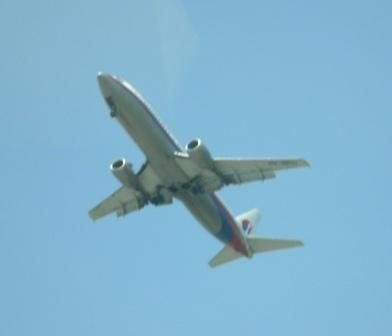aeroplane: (87, 70, 311, 269)
